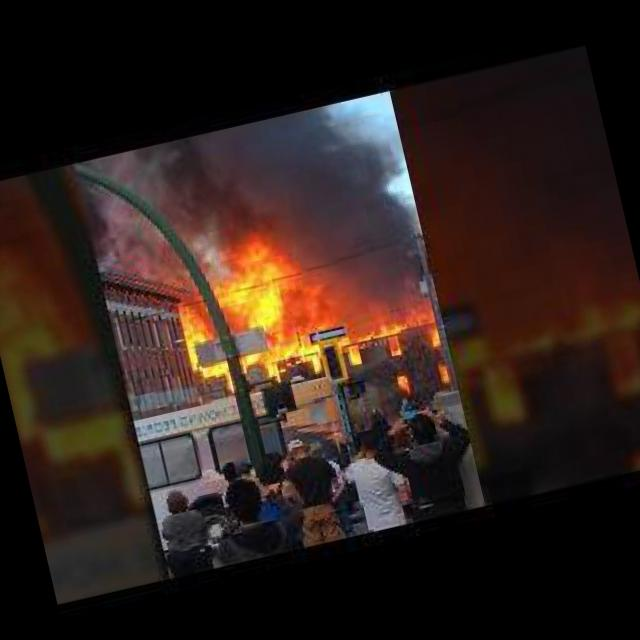fire: (170, 238, 438, 402), (390, 368, 414, 396), (432, 356, 454, 386)
smoke: (277, 88, 439, 322), (115, 114, 306, 276)
